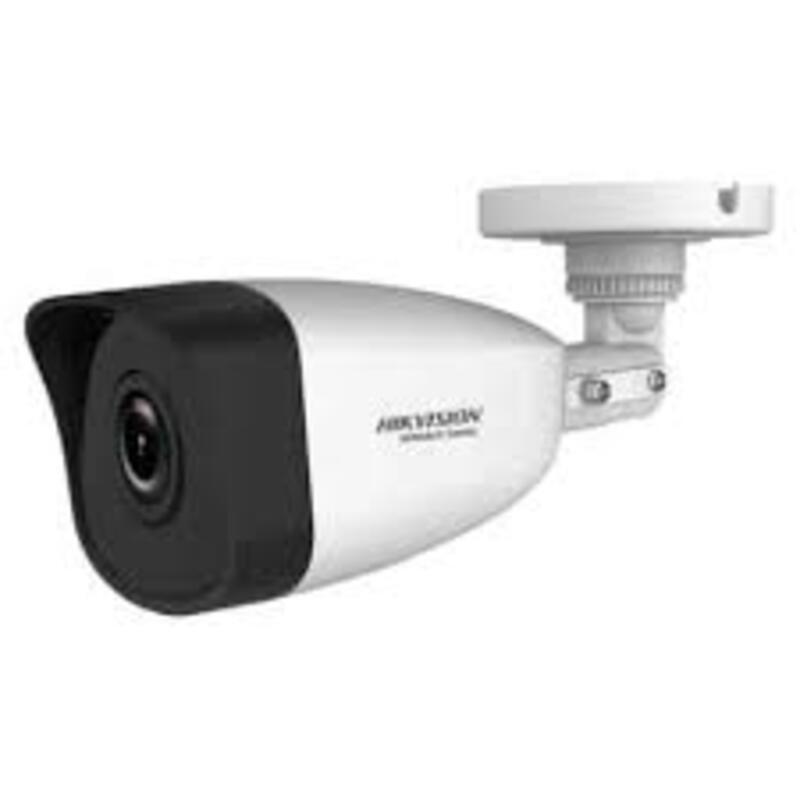bullet: (14, 274, 571, 622)
